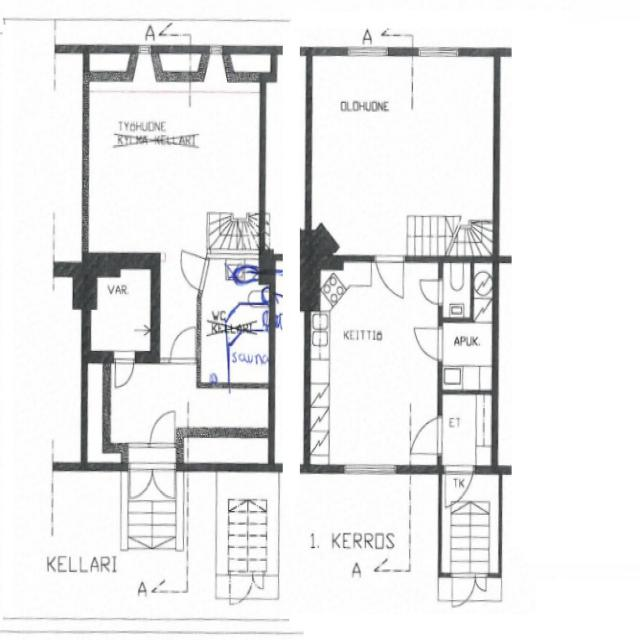door: (373, 253, 409, 302), (408, 413, 446, 459), (146, 406, 179, 452), (166, 323, 200, 367), (411, 323, 446, 364), (177, 246, 208, 292), (444, 466, 475, 508), (446, 570, 478, 610), (111, 352, 137, 393), (153, 464, 177, 508), (128, 462, 153, 502), (416, 276, 446, 309)
window: (338, 460, 402, 480), (345, 43, 393, 63), (414, 43, 462, 61), (206, 40, 229, 64), (134, 41, 155, 60)
zone: (309, 52, 495, 255), (85, 52, 261, 251), (306, 256, 439, 471), (199, 255, 273, 388), (86, 262, 154, 358), (440, 390, 495, 470), (440, 320, 495, 392), (440, 260, 492, 322)
